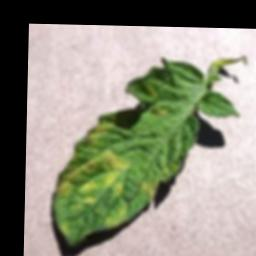Leaf_Mold: (52, 117, 131, 246), (140, 179, 160, 201)
